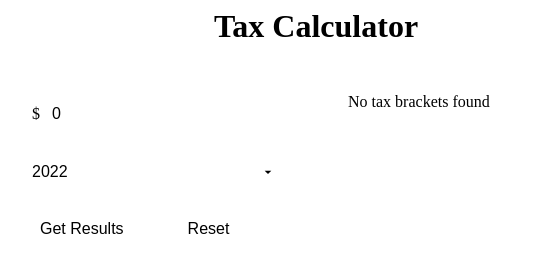
Test: App Component › sets error when API returns non-array response
Replace the text in the field with placeholder "income" with "10000" at [166, 114], box top-left (48, 93), bottom-right (284, 135)
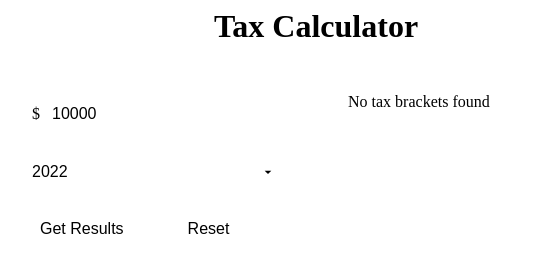
Click the button "Get Results" at [82, 229], box top-left (16, 208), bottom-right (148, 250)
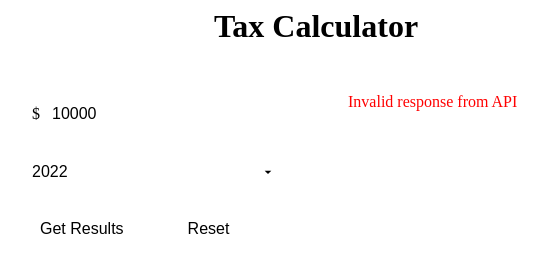
Check: the text "Invalid response from API" is shown, box top-left (348, 93), bottom-right (517, 110)
